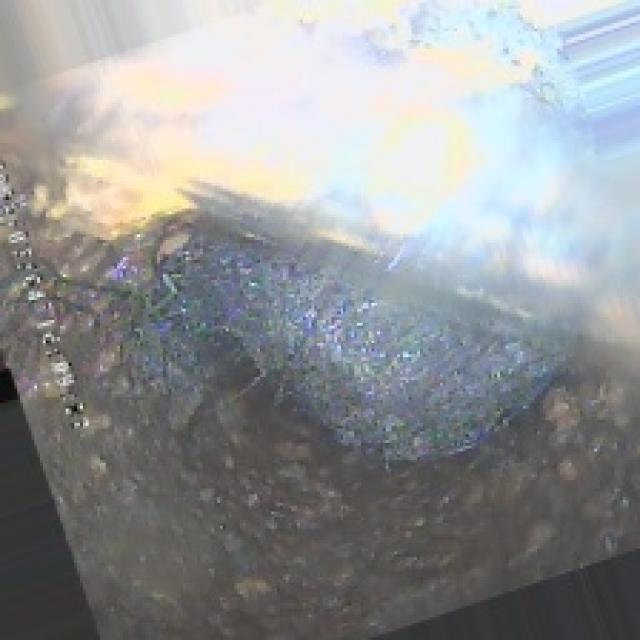Root_blockage: (152, 214, 568, 460)
